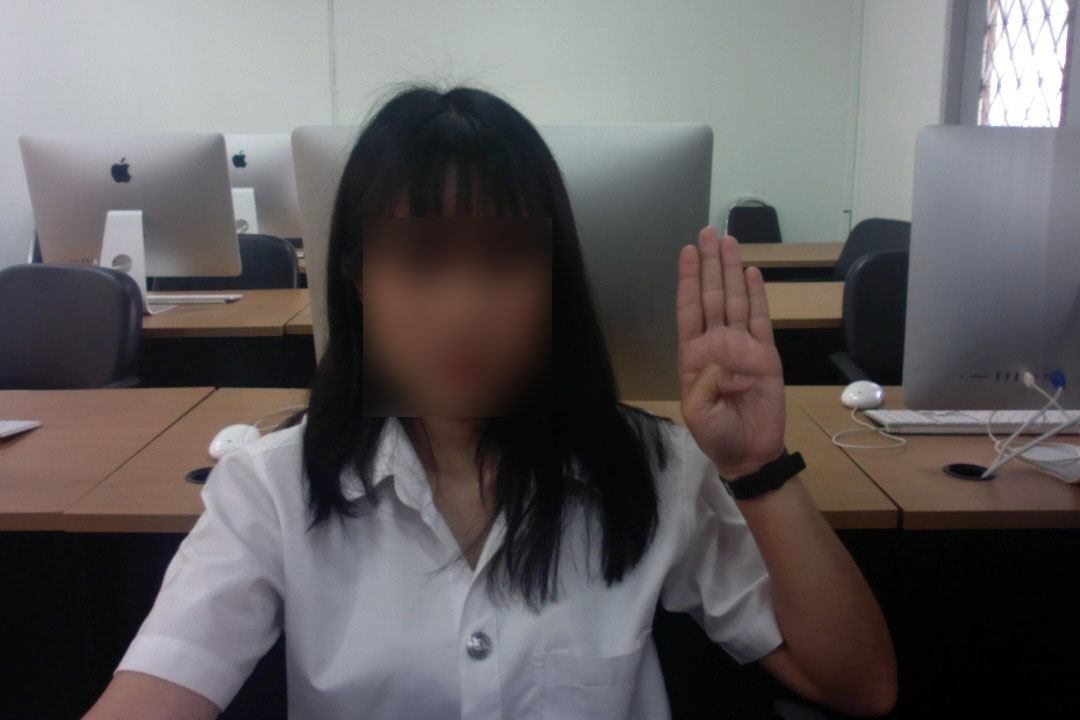bor: (670, 218, 792, 471)
